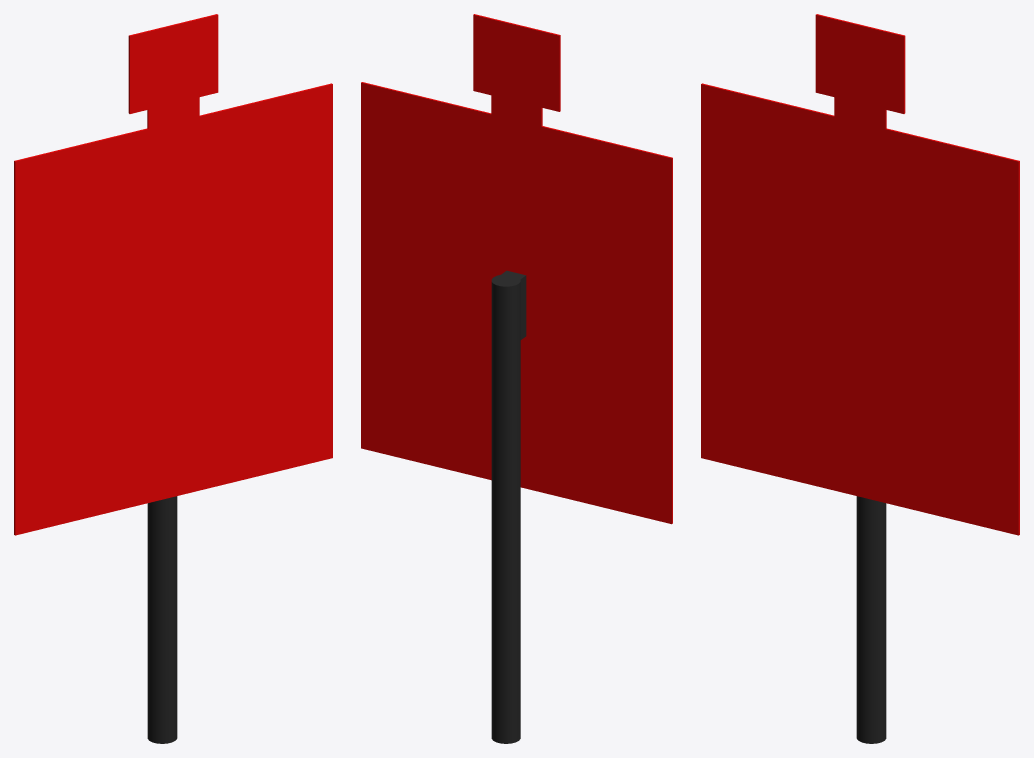
File: Target_Dummy_V2.fbx
3 views of the same model, side by side, from view 1: azimuth 30°, elevation 25°; view 2: azimuth 150°, elevation 25°; view 3: azimuth 330°, elevation 25° (orthographic). The views are drawn at different scales.
Parts seen in each view (by area): view 1: Target_Dummy; view 2: Target_Dummy; view 3: Target_Dummy.
Boxes of the visible parts, x1,y1,x2,y2 form: Target_Dummy: [14, 14, 332, 743]; Target_Dummy: [361, 14, 672, 743]; Target_Dummy: [701, 14, 1019, 743].
Bounding box in the file's own units: 85.36 × 185 × 8.86.
